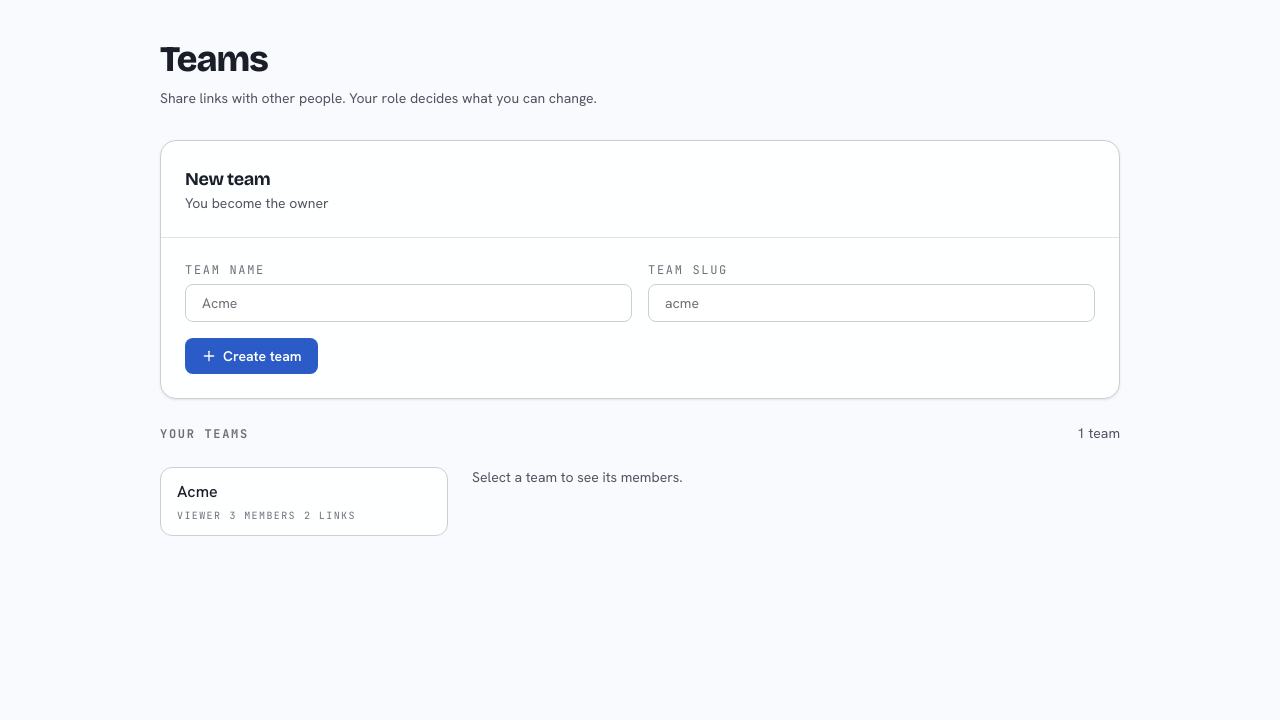
it: Organizations page › viewer sees only the controls that role allows
The width and height of the screenshot is (1280, 720).
Click the button "Acme Viewer 3 members 2 links". click: [197, 492]
box: [160,467,448,536]
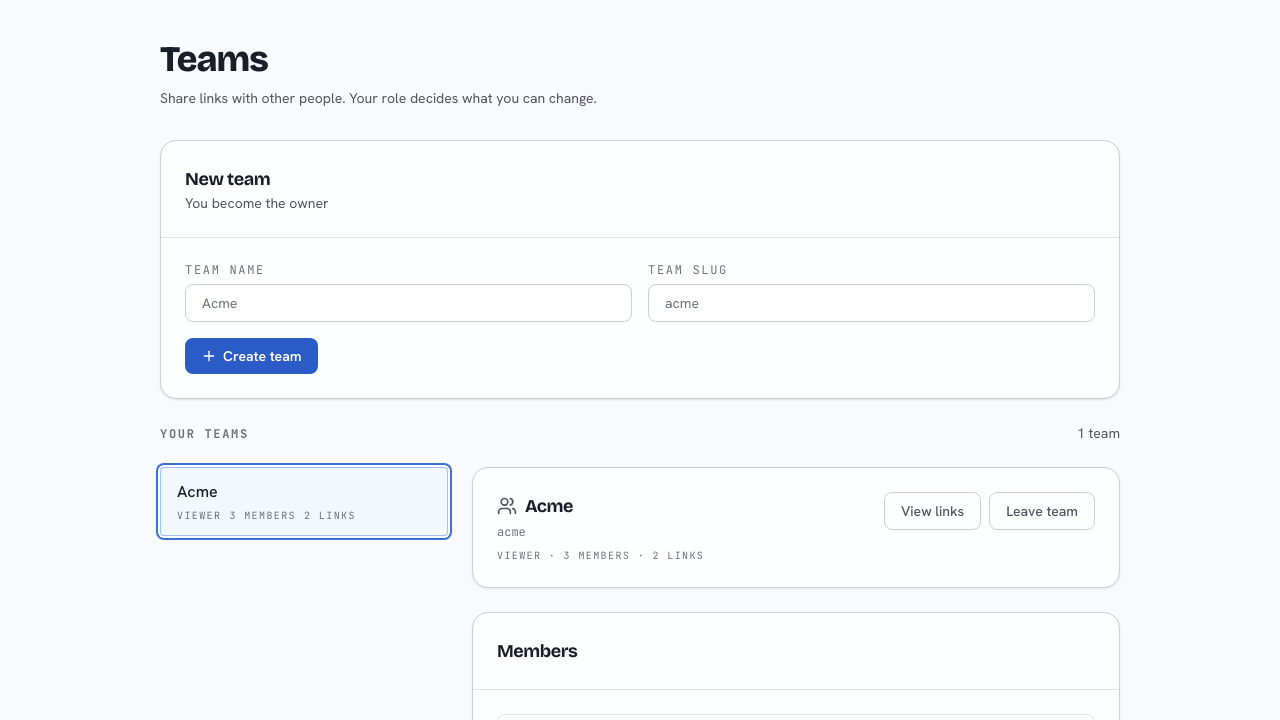
Expected: the button "Leave team" is shown, [989,492,1095,530]
